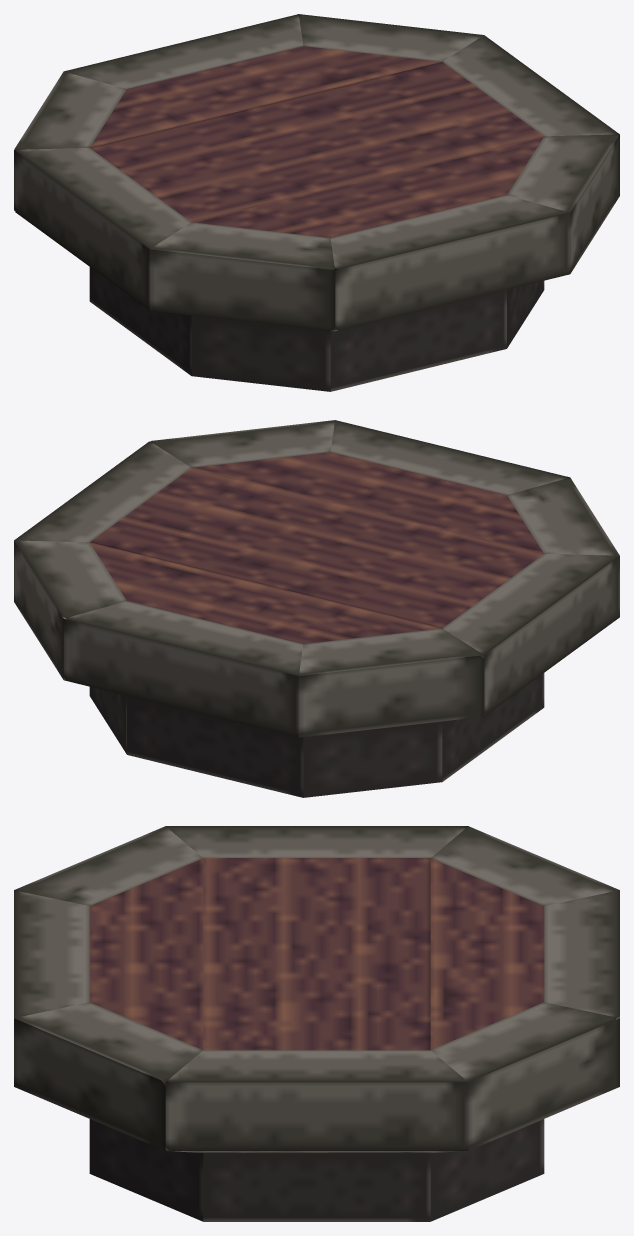
The model's file is Floating_Platform_1.fbx.
The picture shows the model from 3 angles, top to bottom: view 1: azimuth 30°, elevation 25°; view 2: azimuth 150°, elevation 25°; view 3: azimuth 270°, elevation 25°; orthographic projection. The views are drawn at different scales.
Parts seen in each view (by area): view 1: Floating_Platform_1; view 2: Floating_Platform_1; view 3: Floating_Platform_1.
Part boxes in pixels (x1,y1,x2,y2): Floating_Platform_1: [14, 14, 619, 391]; Floating_Platform_1: [14, 420, 619, 797]; Floating_Platform_1: [14, 826, 619, 1221].
Size of the model in its own units: 400 by 125 by 400.
Materials: 1 (1 with a texture image).
